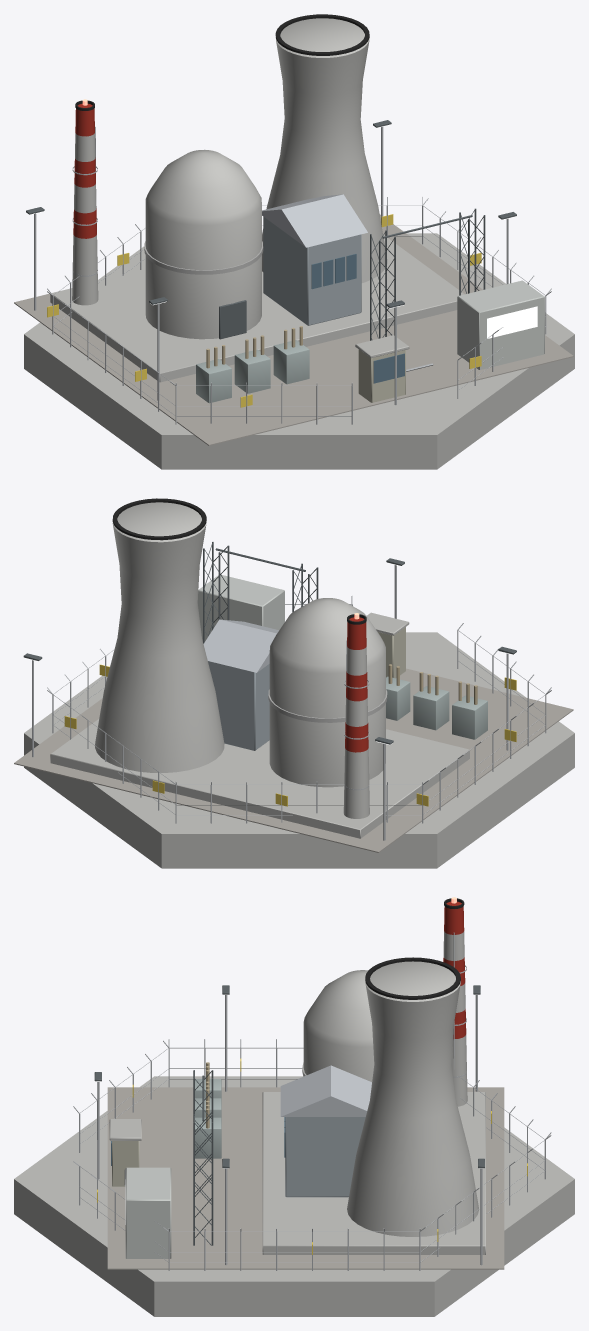
Rendered from nuclearReactor.glb.
3 views of the same model, one above another, from view 1: azimuth 30°, elevation 25°; view 2: azimuth 150°, elevation 25°; view 3: azimuth 270°, elevation 25° (orthographic).
Visible parts, largest first — view 1: wall_concrete, gravel, cladding, metal, steel_dark, paint, glass, dark, glow_cyan, hazard; view 2: wall_concrete, gravel, cladding, metal, paint, steel_dark, dark, hazard; view 3: wall_concrete, gravel, cladding, metal, steel_dark, paint, dark.
Boxes of the visible parts, box(x1,y1,x2,y2) form: wall_concrete: box(24, 18, 574, 469); gravel: box(14, 214, 573, 445); cladding: box(262, 194, 544, 402); metal: box(34, 126, 551, 424); steel_dark: box(26, 120, 516, 340); paint: box(73, 103, 302, 368); glass: box(311, 254, 404, 383); dark: box(75, 14, 369, 110); glow_cyan: box(487, 306, 537, 338); hazard: box(47, 214, 481, 407); wall_concrete: box(24, 502, 574, 868); gravel: box(14, 668, 573, 852); cladding: box(197, 575, 405, 750); metal: box(32, 565, 551, 840); paint: box(345, 617, 477, 752); steel_dark: box(23, 542, 516, 744); dark: box(112, 498, 366, 624); hazard: box(64, 664, 516, 806); wall_concrete: box(14, 931, 574, 1316); gravel: box(107, 1087, 504, 1269); cladding: box(112, 1065, 371, 1258); metal: box(73, 932, 551, 1270); steel_dark: box(94, 985, 484, 1245); paint: box(206, 901, 466, 1128); dark: box(365, 898, 464, 999).
Bounding box in the file's own units: 21.3 × 13.4 × 24.6.
